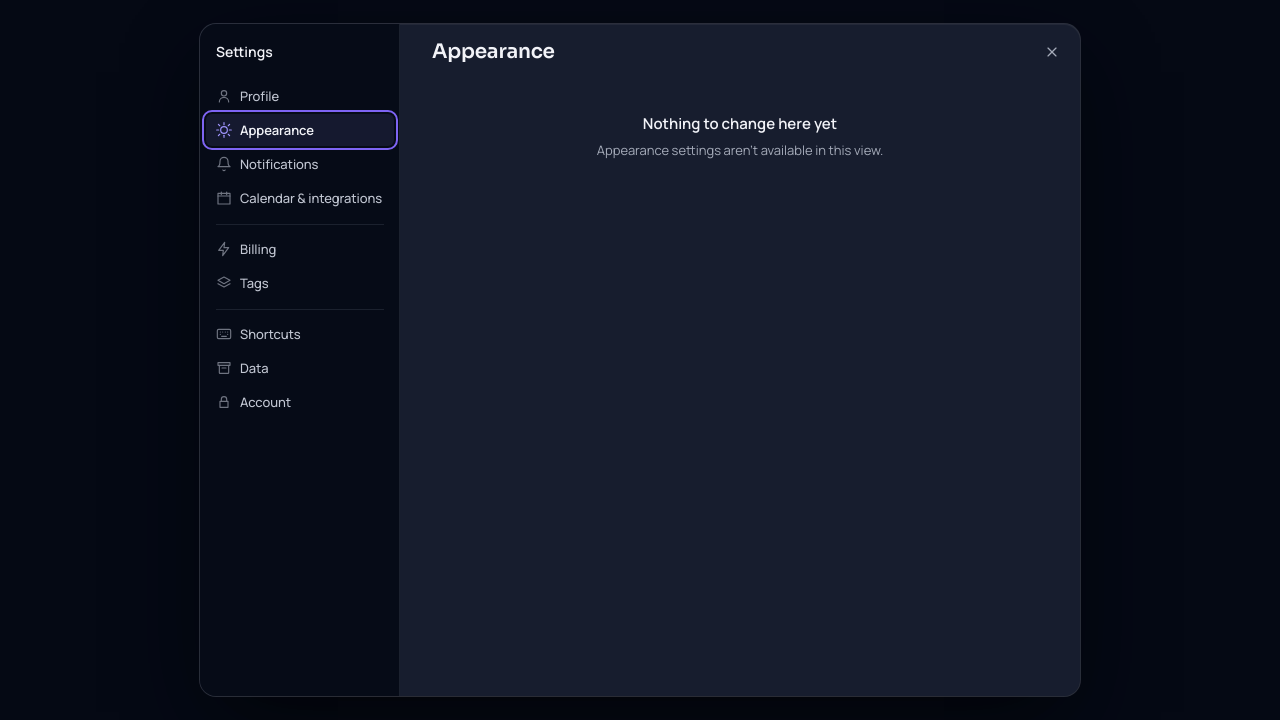
Delete account › says comments keep the person's name
Click the tab "Account": (300, 402) [206,386,394,418]
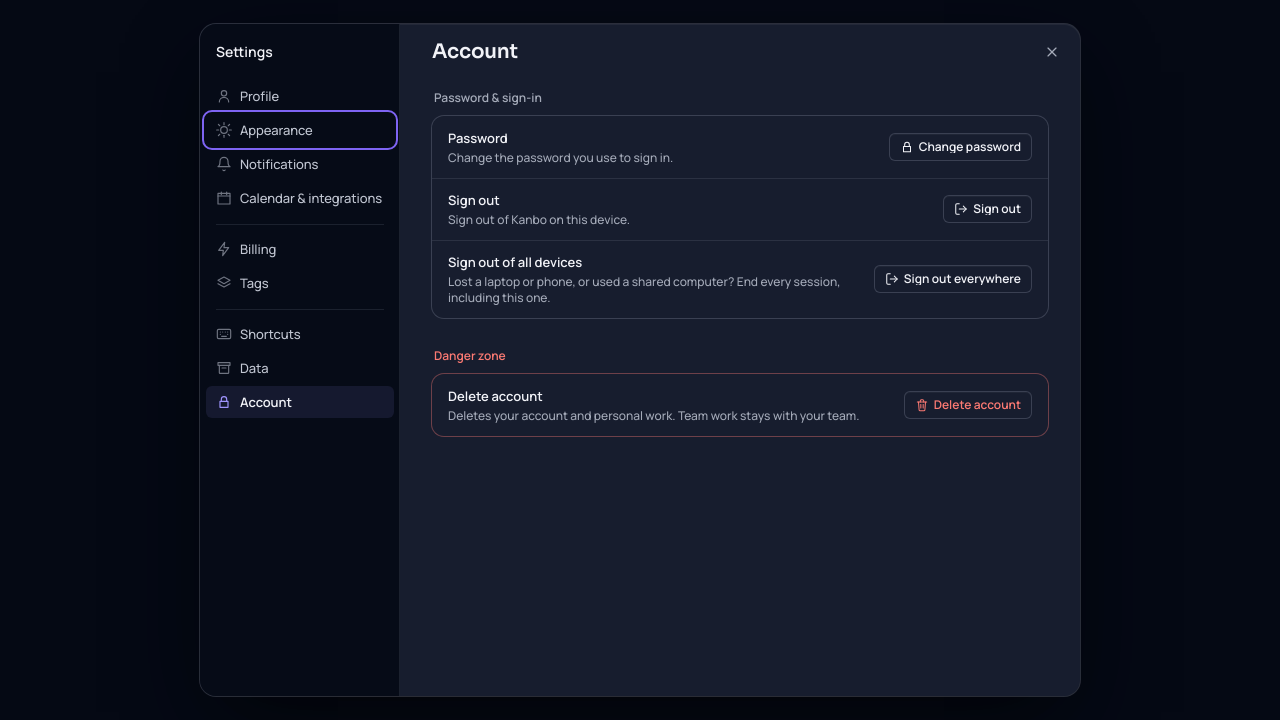
Click the button "Delete account": (968, 405) [904,391,1032,419]
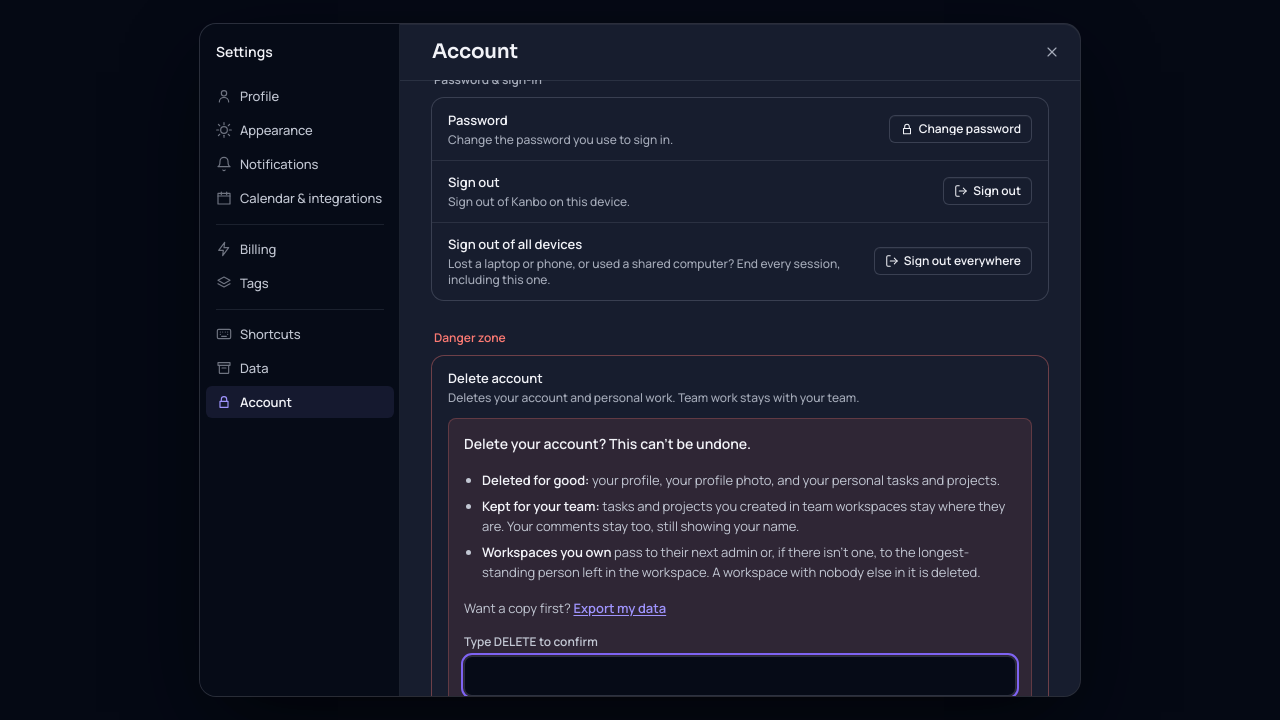
Now the list item "still showing your name" is shown, box [482,497,1005,535]
